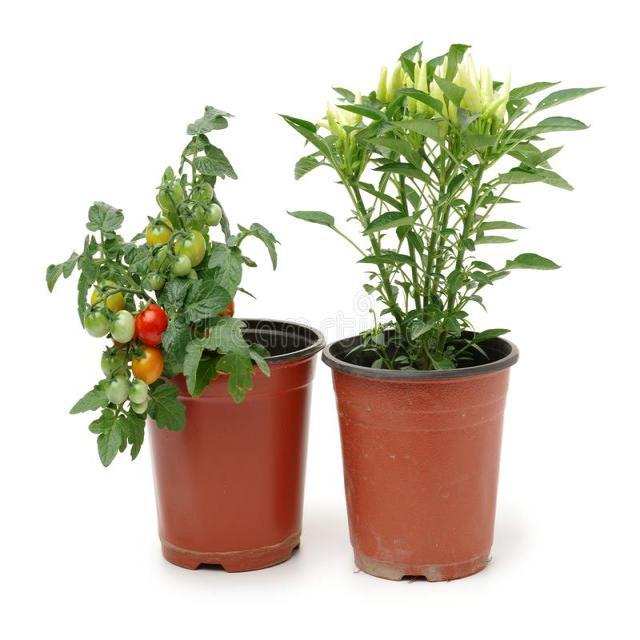brinjal: (284, 43, 596, 369)
tomato: (46, 105, 277, 467), (290, 119, 294, 126)
